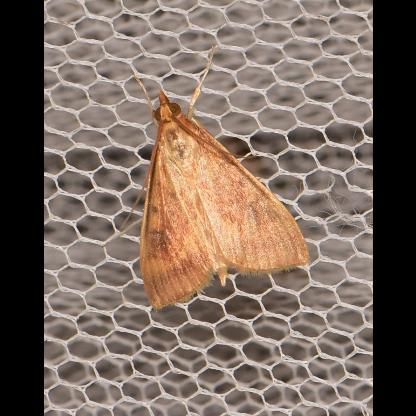Asian Corn Borer Moth: (99, 44, 313, 316)
